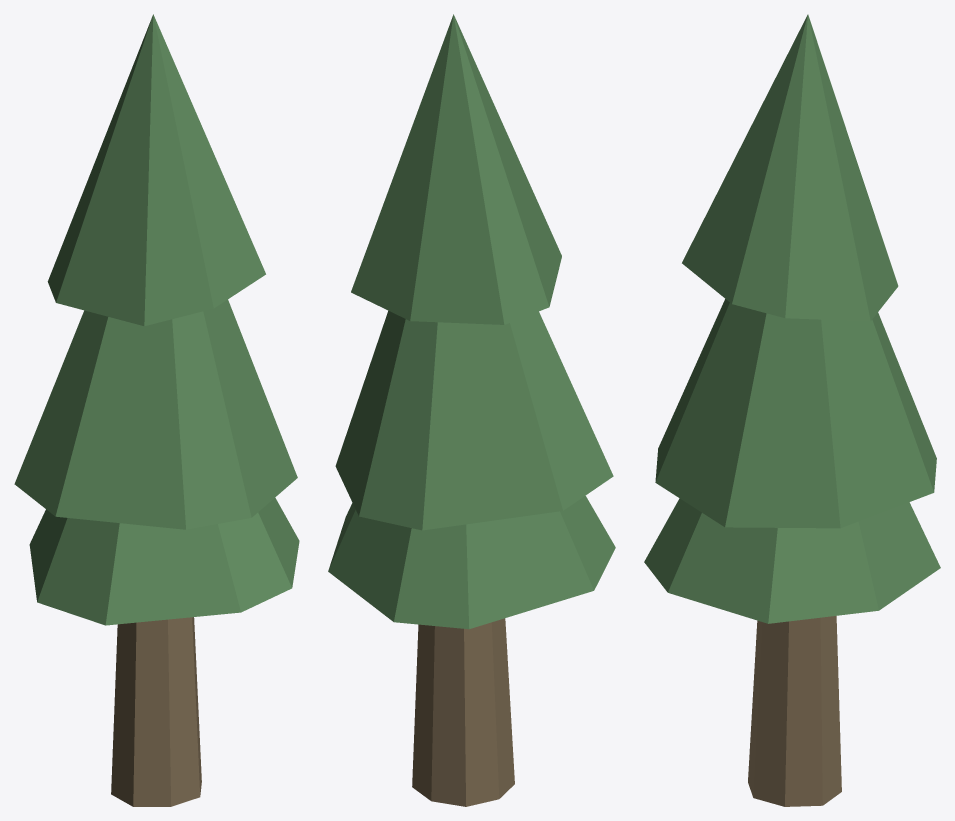
The model's file is Tree2.014.fbx.
3 views of the same model, side by side, from view 1: azimuth 30°, elevation 25°; view 2: azimuth 150°, elevation 25°; view 3: azimuth 270°, elevation 25° (orthographic).
Parts seen in each view (by area): view 1: Tree2.014; view 2: Tree2.014; view 3: Tree2.014.
Boxes of the visible parts, x1,y1,x2,y2 form: Tree2.014: (14, 14, 299, 806); Tree2.014: (328, 14, 615, 806); Tree2.014: (644, 14, 940, 806).
Size of the model in its own units: 106 by 305 by 106.
